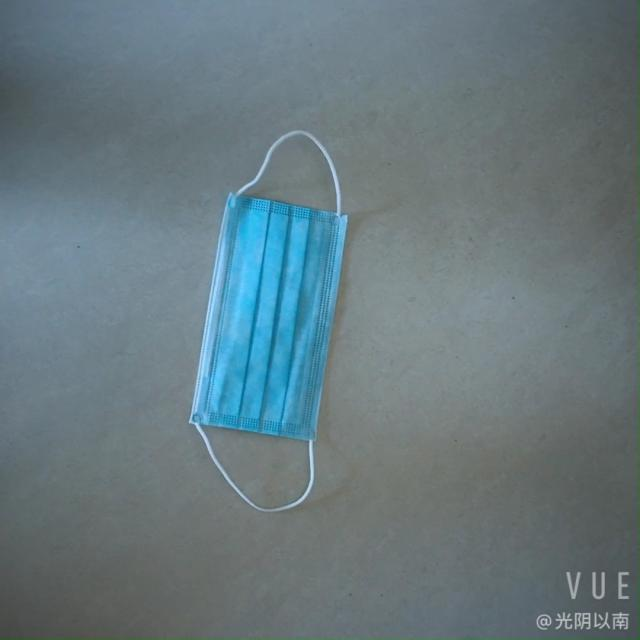non-organic waste: (179, 183, 362, 459)
